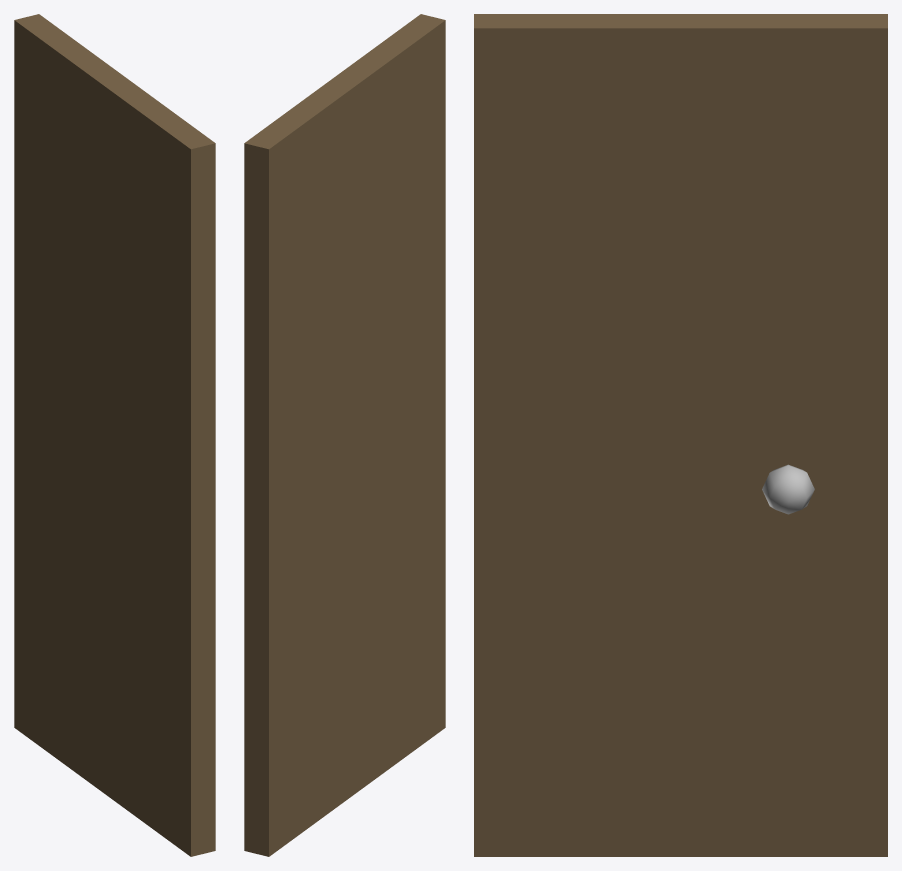
The model's file is HouseDoor.fbx.
The picture shows the model from 3 angles, left to right: view 1: azimuth 30°, elevation 25°; view 2: azimuth 150°, elevation 25°; view 3: azimuth 270°, elevation 25°; orthographic projection. The views are drawn at different scales.
Parts seen in each view (by area): view 1: Cube.010; view 2: Cube.010; view 3: Cube.010.
Part boxes in pixels (x1=…): Cube.010: x1=14, y1=14, x2=215, y2=856; Cube.010: x1=244, y1=14, x2=445, y2=856; Cube.010: x1=474, y1=14, x2=887, y2=856.
Bounding box in the file's own units: 11.55 × 143 × 64.82.
